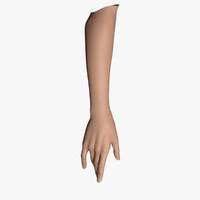hand: (73, 99, 129, 184)
